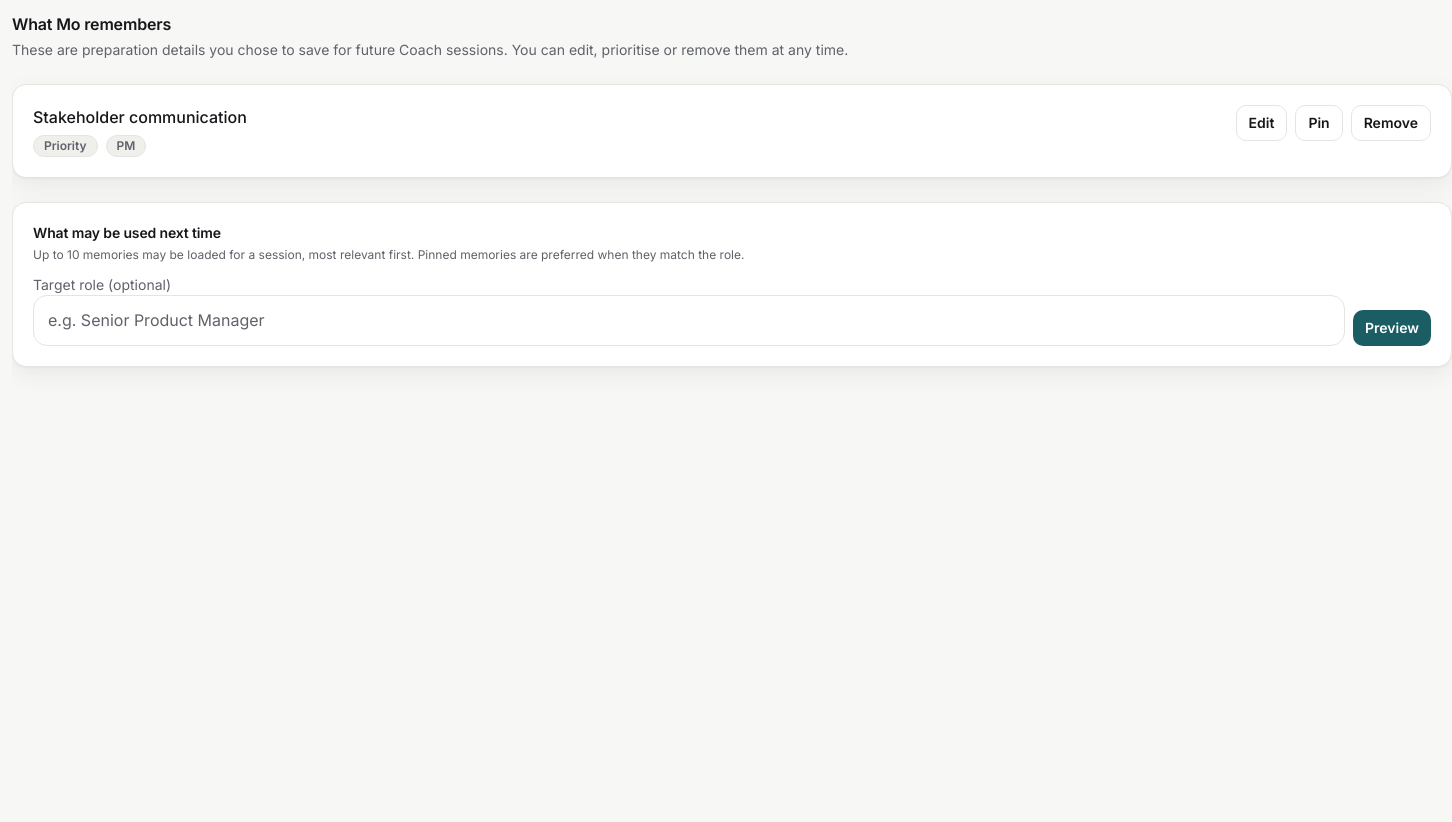
Test: MemoryManager › saves an edit
The image size is (1452, 822).
Click the button with aria-label "Edit saved memory". click: (1262,123)
box: x1=1236 y1=105 x2=1287 y2=141
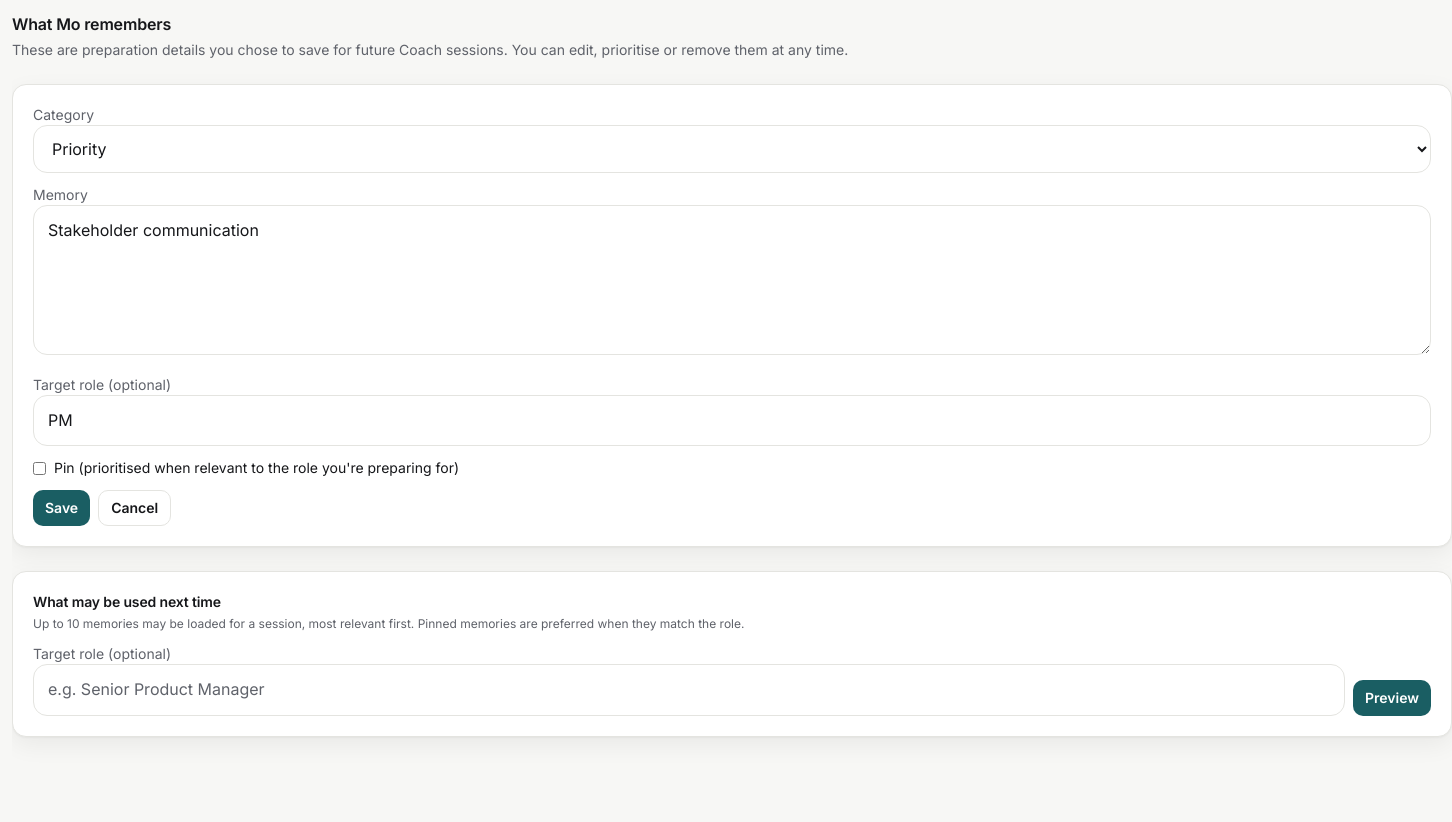
Replace the text in the text box labelled "Memory" with "Refined". click: (732,280)
box: x1=33 y1=205 x2=1431 y2=355
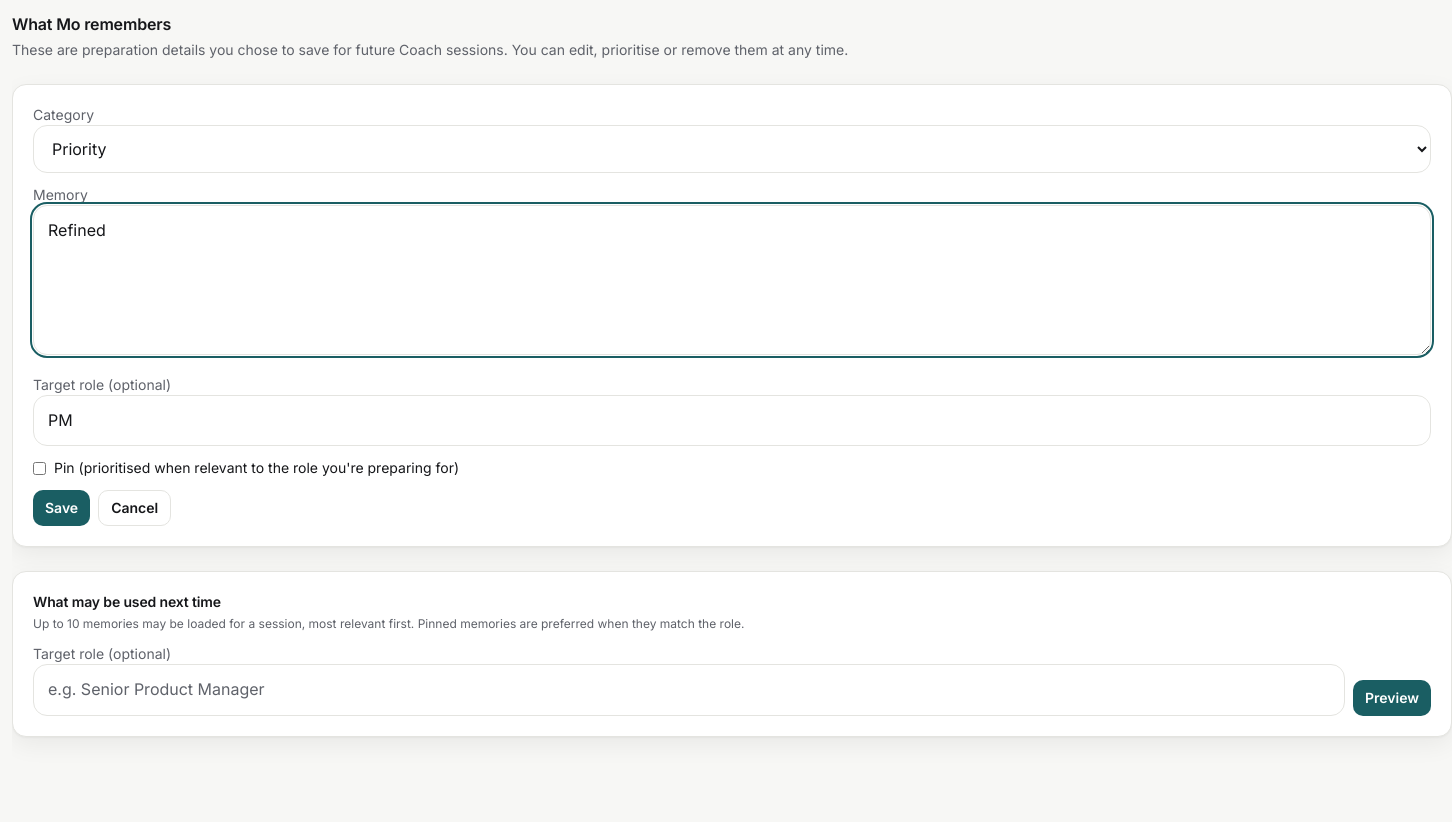
Click the button "Save". click: (62,508)
box: x1=33 y1=490 x2=90 y2=526
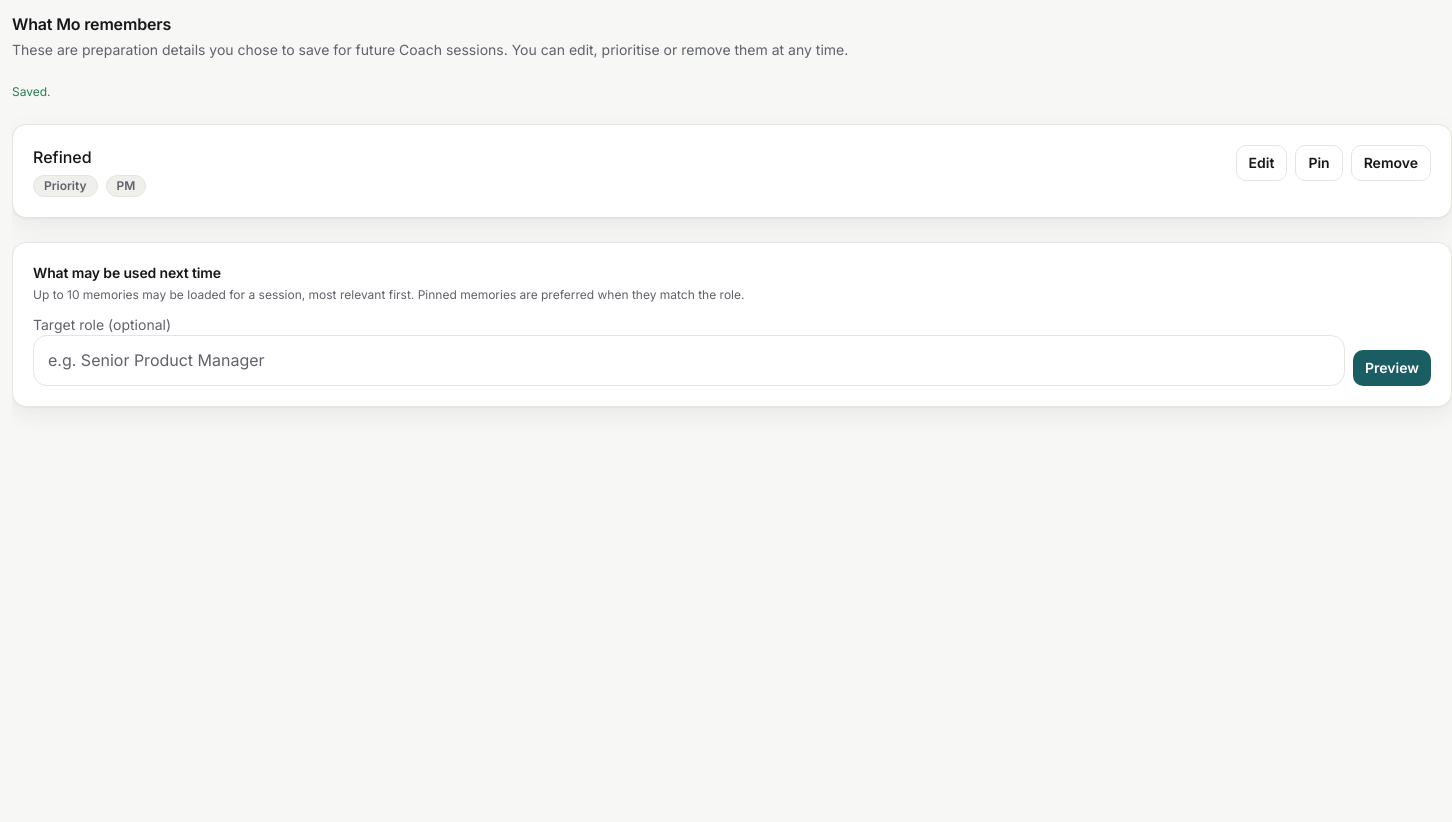
Expected: the text "Refined" is shown, x1=33 y1=147 x2=92 y2=167
